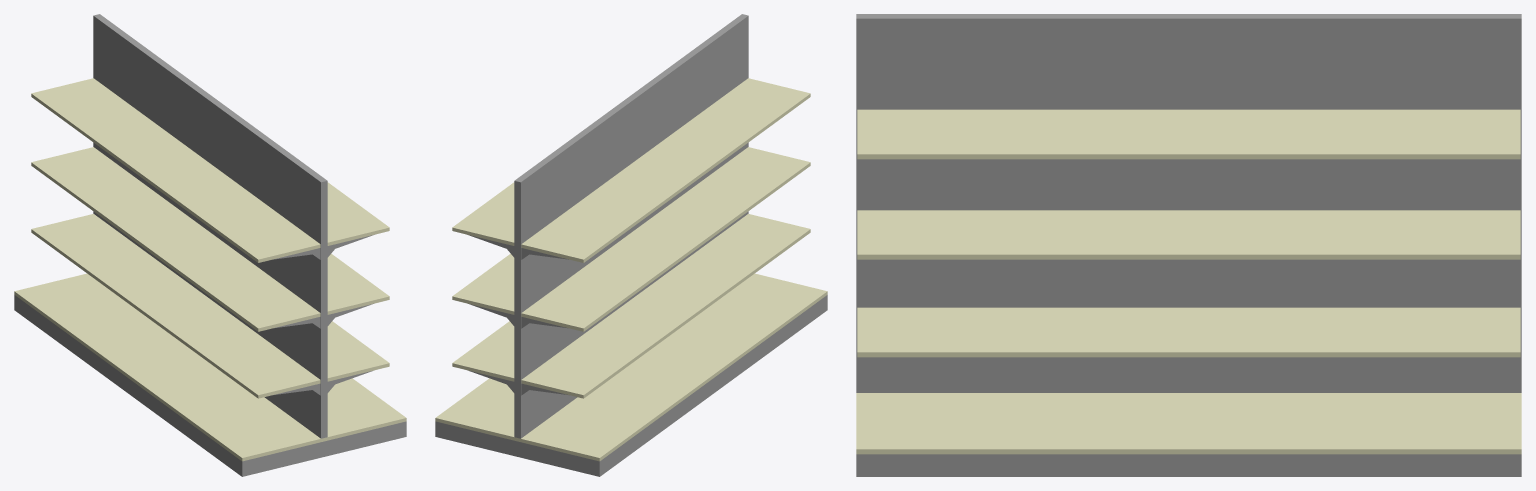
File: shelf3M.fbx
The picture shows the model from 3 angles, left to right: view 1: azimuth 30°, elevation 25°; view 2: azimuth 150°, elevation 25°; view 3: azimuth 270°, elevation 25°; orthographic projection. The views are drawn at different scales.
Visible parts, largest first — view 1: back, floor1, floor4, floor3, floor2, foundation1; view 2: back, floor1, floor4, floor3, floor2, foundation1; view 3: back, floor1, floor2, floor4, floor3, foundation1.
Part boxes in pixels (<box>): back: <box>93,14,327,438</box>; floor1: <box>14,273,406,461</box>; floor4: <box>31,78,389,262</box>; floor3: <box>31,147,389,331</box>; floor2: <box>31,214,389,398</box>; foundation1: <box>14,295,406,476</box>; back: <box>514,14,748,438</box>; floor1: <box>435,273,827,461</box>; floor4: <box>452,78,810,262</box>; floor3: <box>452,147,810,331</box>; floor2: <box>452,214,810,398</box>; foundation1: <box>435,295,827,476</box>; back: <box>856,14,1521,392</box>; floor1: <box>856,393,1521,454</box>; floor2: <box>857,307,1520,357</box>; floor4: <box>857,109,1520,159</box>; floor3: <box>857,210,1520,259</box>; foundation1: <box>856,454,1521,476</box>.
Size of the model in its own units: 250 by 400 by 600.
